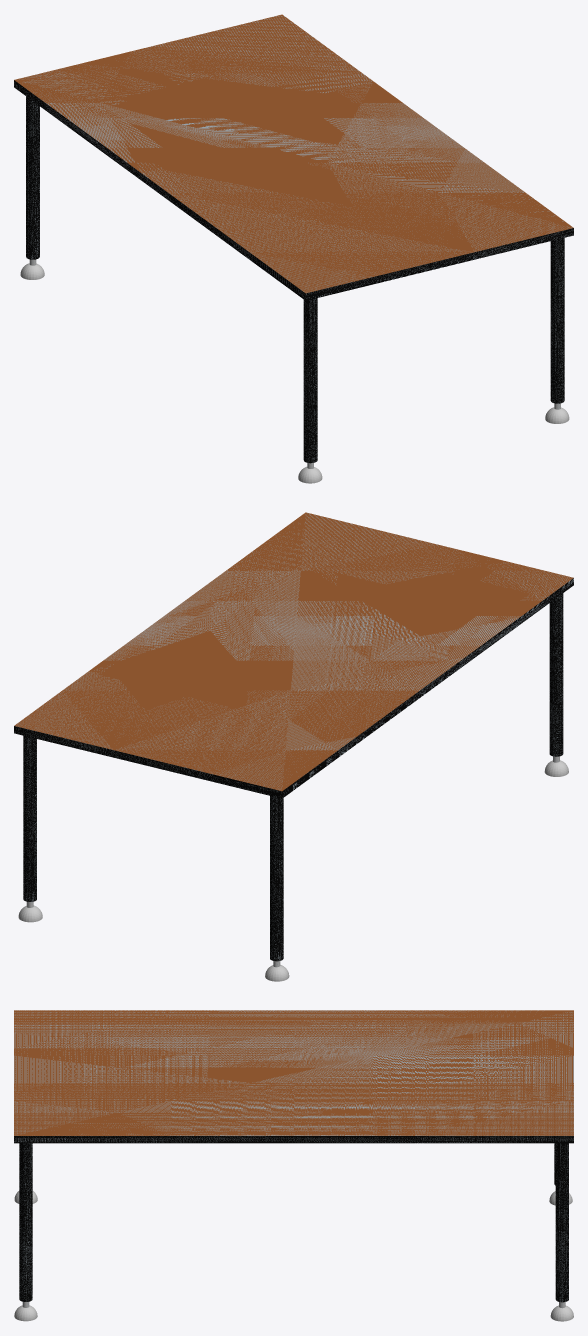
File: table1.dae
The picture shows the model from 3 angles, top to bottom: view 1: azimuth 30°, elevation 25°; view 2: azimuth 150°, elevation 25°; view 3: azimuth 270°, elevation 25°; orthographic projection. The views are drawn at different scales.
Parts seen in each view (by area): view 1: Component (×2), Component5, Component6, Component1; view 2: Component (×2), Component6, Component4, Component1; view 3: Component (×2), Component4, Component5.
Boxes of the visible parts, x1=… form: Component (×2): x1=14, y1=14, x2=573, y2=300; Component5: x1=550, y1=238, x2=564, y2=403; Component6: x1=303, y1=298, x2=317, y2=463; Component1: x1=26, y1=96, x2=39, y2=259; Component (×2): x1=14, y1=512, x2=573, y2=798; Component6: x1=549, y1=593, x2=563, y2=756; Component4: x1=23, y1=735, x2=36, y2=901; Component1: x1=270, y1=796, x2=283, y2=961; Component (×2): x1=14, y1=1010, x2=573, y2=1143; Component4: x1=555, y1=1143, x2=568, y2=1302; Component5: x1=19, y1=1143, x2=32, y2=1301.
Bounding box in the file's own units: 46.08 × 86.81 × 31.72.
